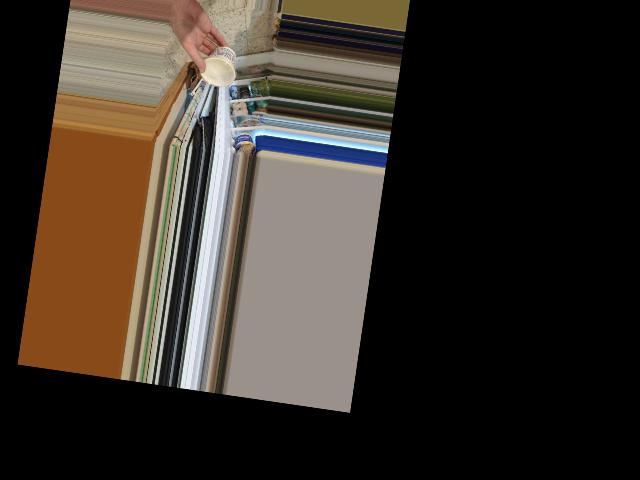cotage: (199, 43, 237, 86)
